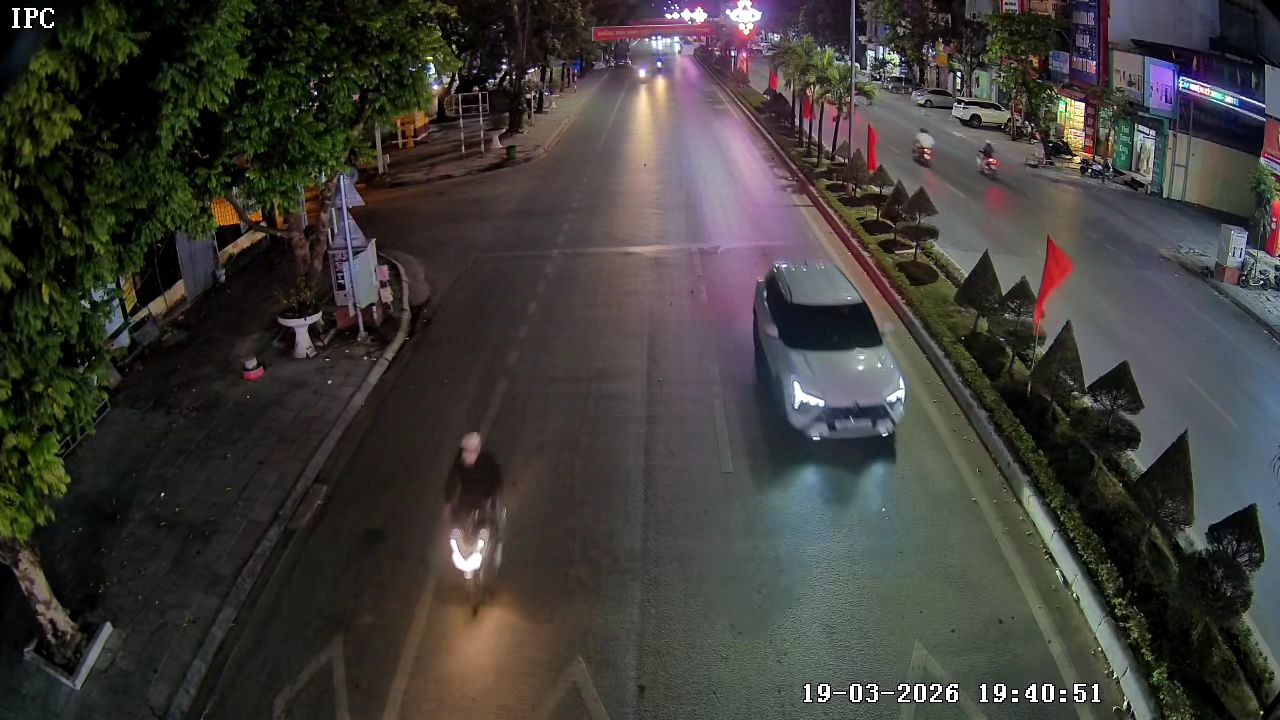car: (751, 260, 907, 449)
motorbike: (442, 428, 514, 625)
